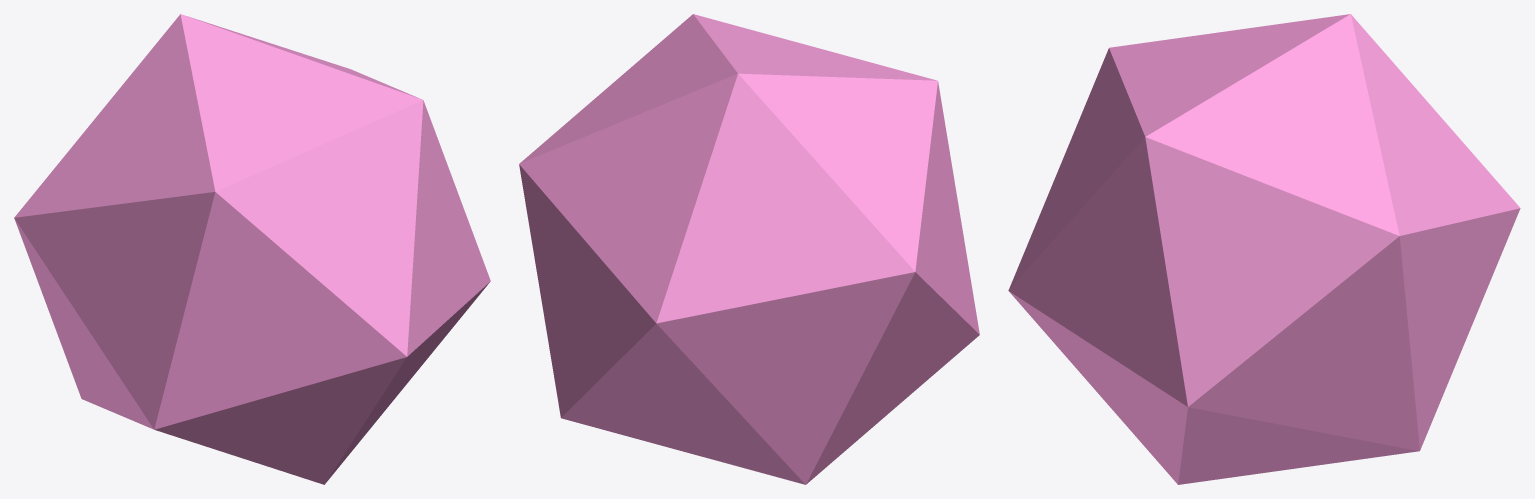
File: icosa.gltf
The picture shows the model from 3 angles, left to right: view 1: azimuth 30°, elevation 25°; view 2: azimuth 150°, elevation 25°; view 3: azimuth 270°, elevation 25°; orthographic projection. The views are drawn at different scales.
Size of the model in its own units: 1.85 by 1.87 by 1.97.
